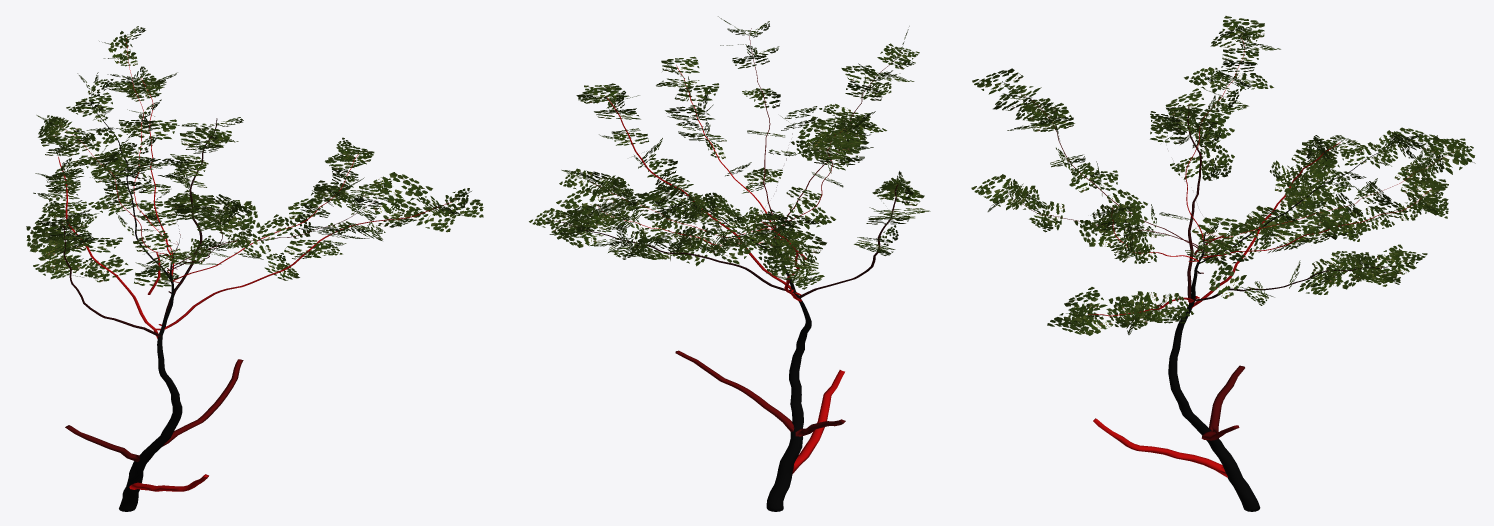
3 views of the same model, side by side, from view 1: azimuth 30°, elevation 25°; view 2: azimuth 150°, elevation 25°; view 3: azimuth 270°, elevation 25° (orthographic). The views are drawn at different scales.
Parts seen in each view (by area): view 1: Tree24; view 2: Tree24; view 3: Tree24.
Boxes of the visible parts, box(x1,y1,x2,y2) form: Tree24: box(26, 26, 483, 511); Tree24: box(529, 16, 930, 511); Tree24: box(971, 16, 1475, 511).
Size of the model in its own units: 8.59 by 8 by 8.32.
